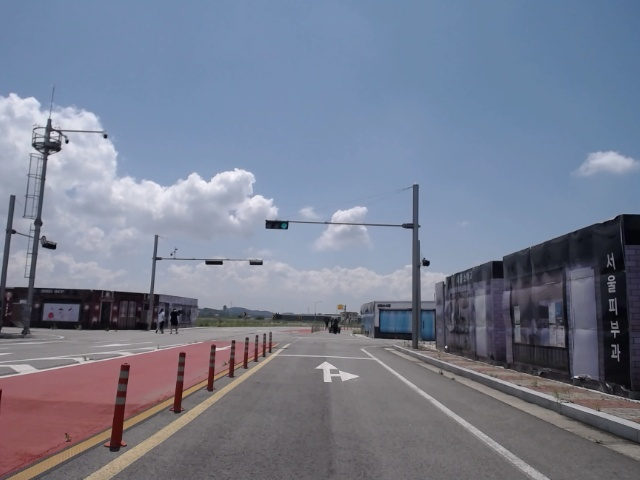green_3: (265, 220, 289, 229)
